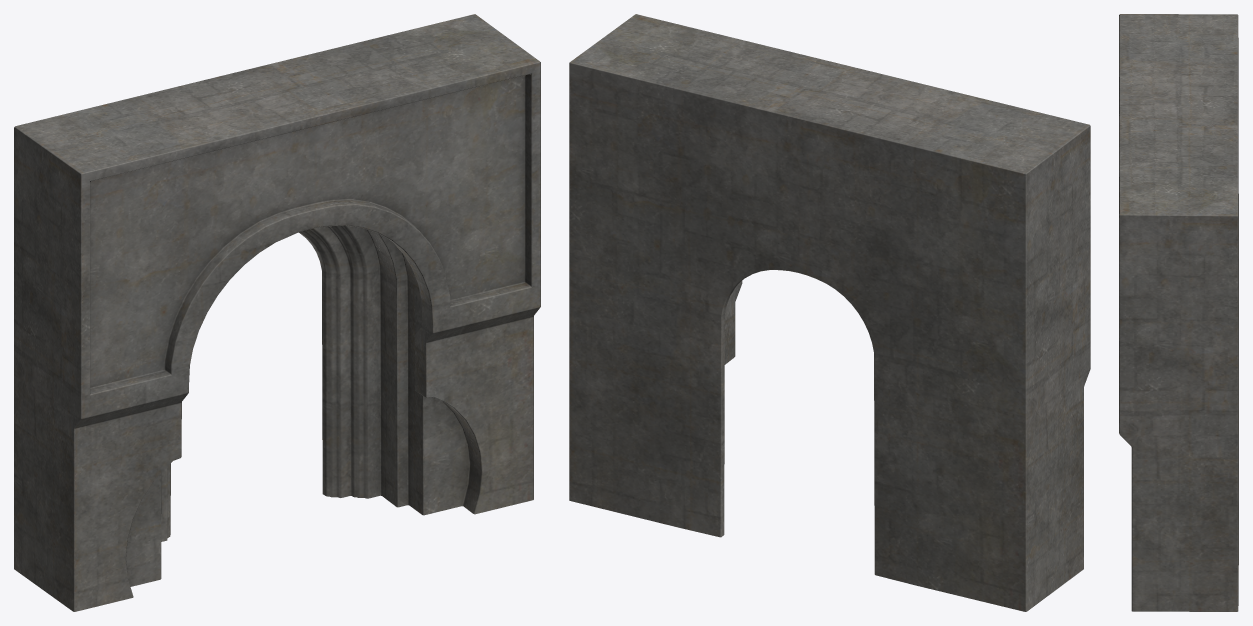
Rendered from arch_1.glb.
3 renders of one model, left to right at view 1: azimuth 30°, elevation 25°; view 2: azimuth 150°, elevation 25°; view 3: azimuth 270°, elevation 25°, orthographic. The views are drawn at different scales.
Parts seen in each view (by area): view 1: element 20; view 2: element 20; view 3: element 20.
Boxes of the visible parts, x1,y1,x2,y2 form: element 20: (14, 14, 540, 611); element 20: (569, 14, 1090, 611); element 20: (1119, 14, 1238, 611).
Size of the model in its own units: 7.61 by 6.98 by 1.91.
1 material, 1 textured.
